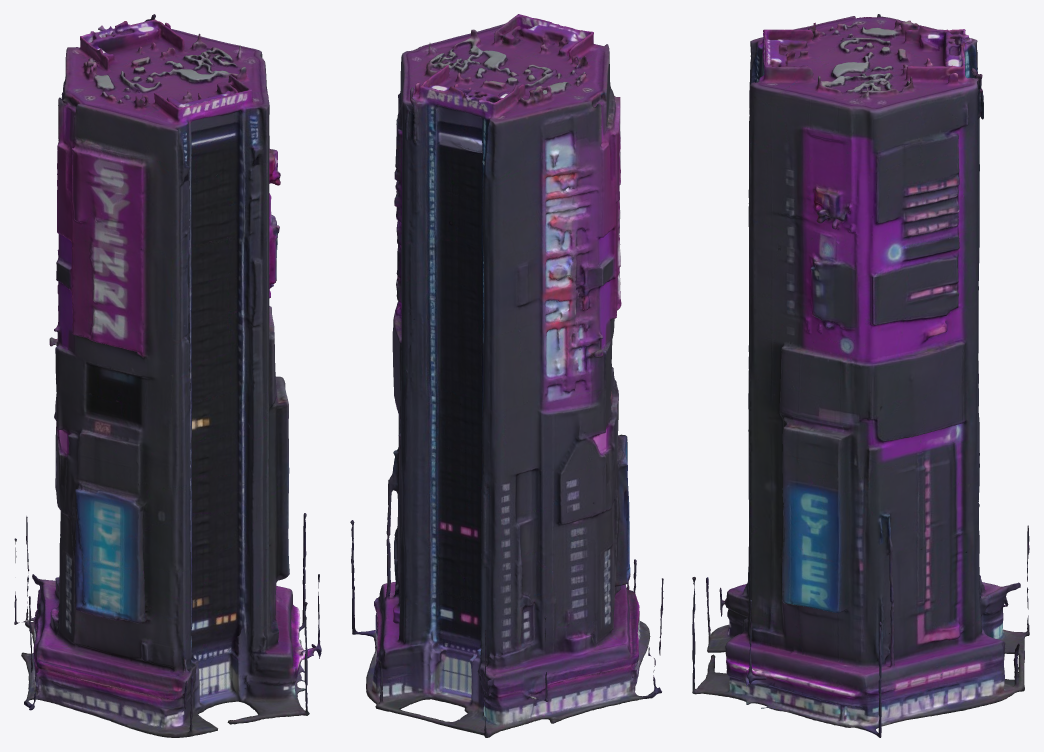
File: AI_Cyderk_Neon_Spire.glb
3 views of the same model, side by side, from view 1: azimuth 30°, elevation 25°; view 2: azimuth 150°, elevation 25°; view 3: azimuth 270°, elevation 25° (orthographic). The views are drawn at different scales.
Size of the model in its own units: 1.01 by 2 by 0.9799.
Materials: 1 (1 with a texture image).
